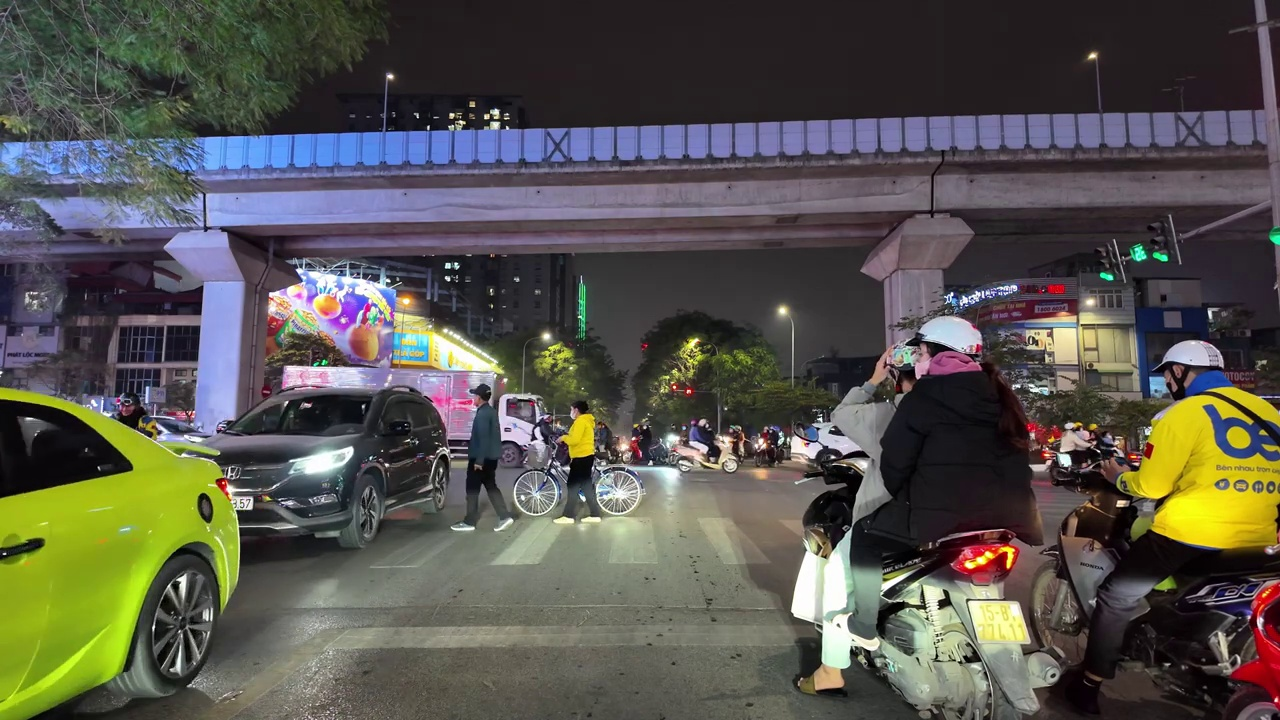acesa: (772, 301, 795, 324), (1085, 51, 1101, 66), (385, 69, 394, 84)
